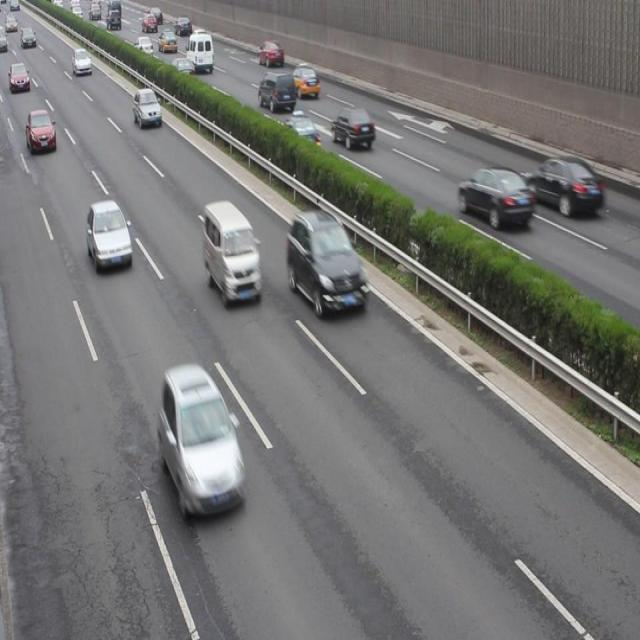car: (159, 364, 243, 514), (287, 208, 364, 313), (526, 157, 602, 216), (454, 164, 530, 221), (86, 199, 132, 272), (279, 109, 321, 152), (331, 107, 373, 148), (27, 110, 58, 152), (132, 90, 161, 126), (289, 62, 318, 96), (171, 57, 194, 82), (259, 39, 281, 65), (10, 63, 30, 91), (72, 48, 92, 75), (158, 29, 177, 54), (134, 35, 153, 57), (175, 18, 192, 36), (191, 28, 206, 48)
truck: (202, 200, 262, 300), (258, 76, 294, 109), (188, 34, 214, 74)
